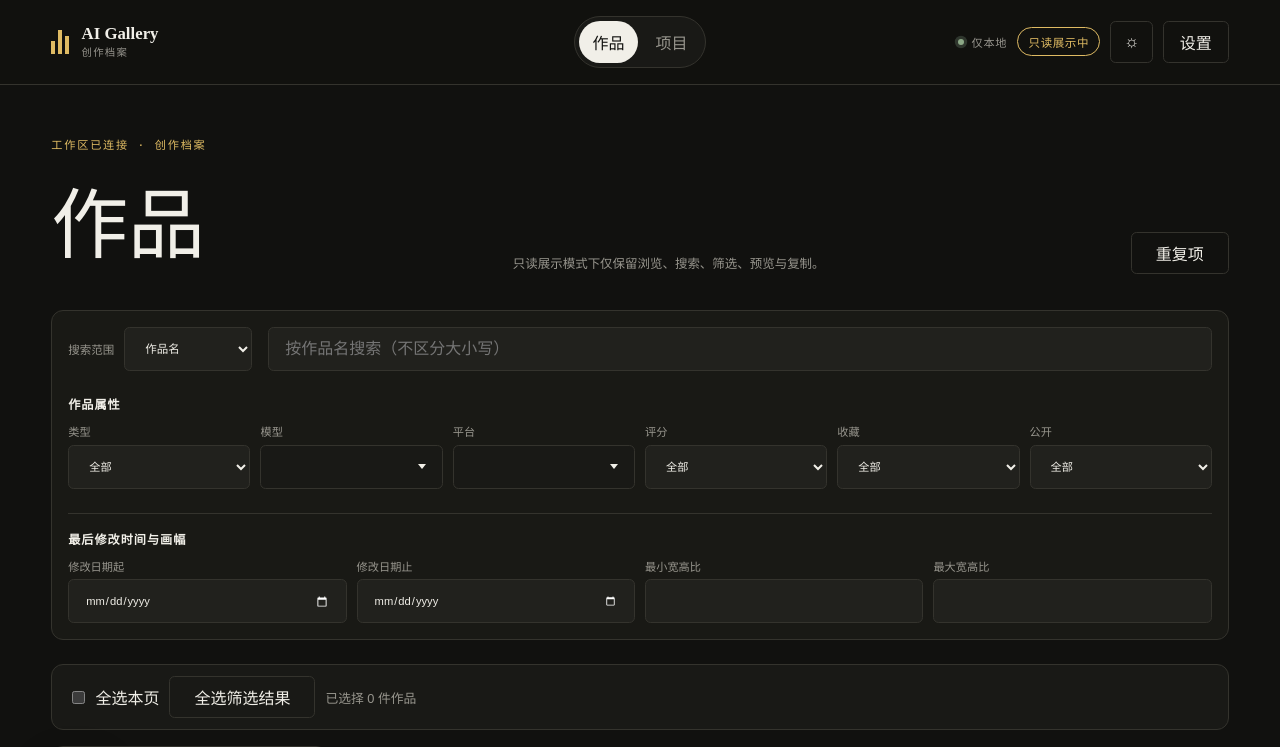
Scenario: M2 作品库页面 › 画布项目只读时隐藏角色、提示词和移出写操作
This screenshot has width=1280, height=747.
Click the button "项目".
click(672, 42)  # box [642,21,701,63]
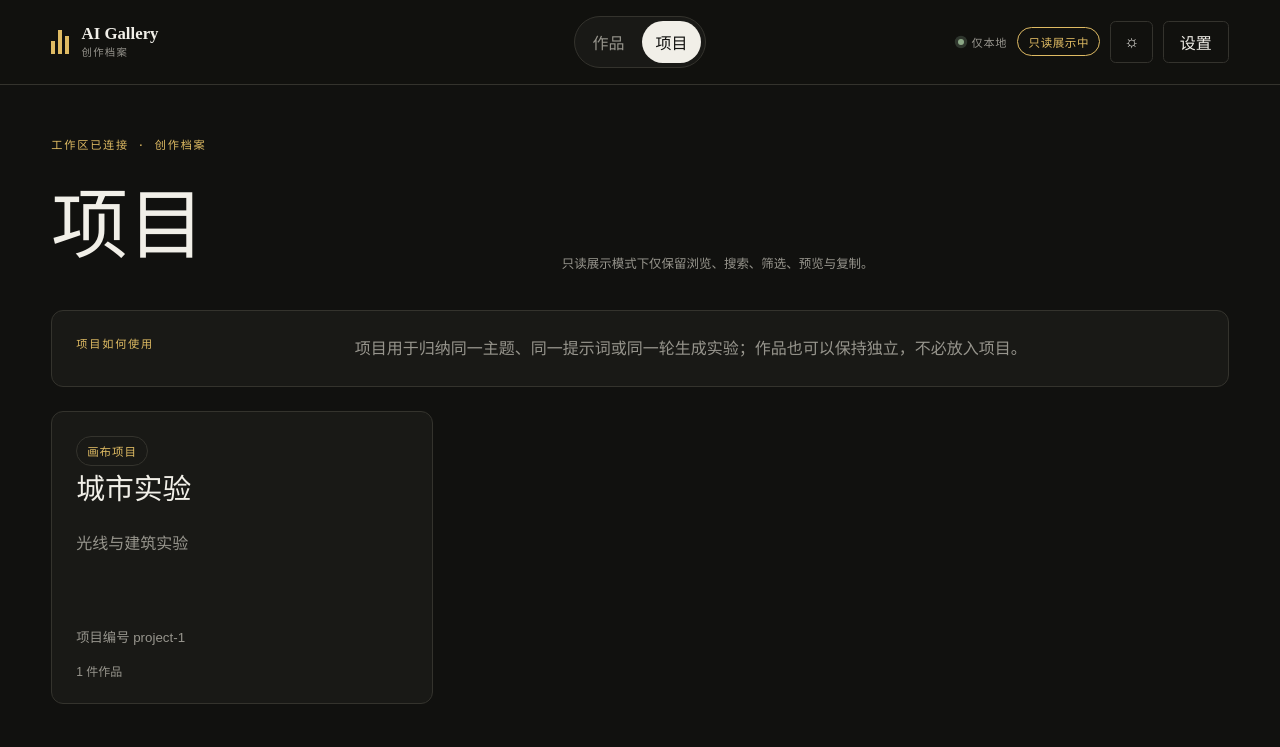
Click the button "画布项目 城市实验 光线与建筑实验".
click(112, 451)  # box [76,436,408,627]
(page scrolled)
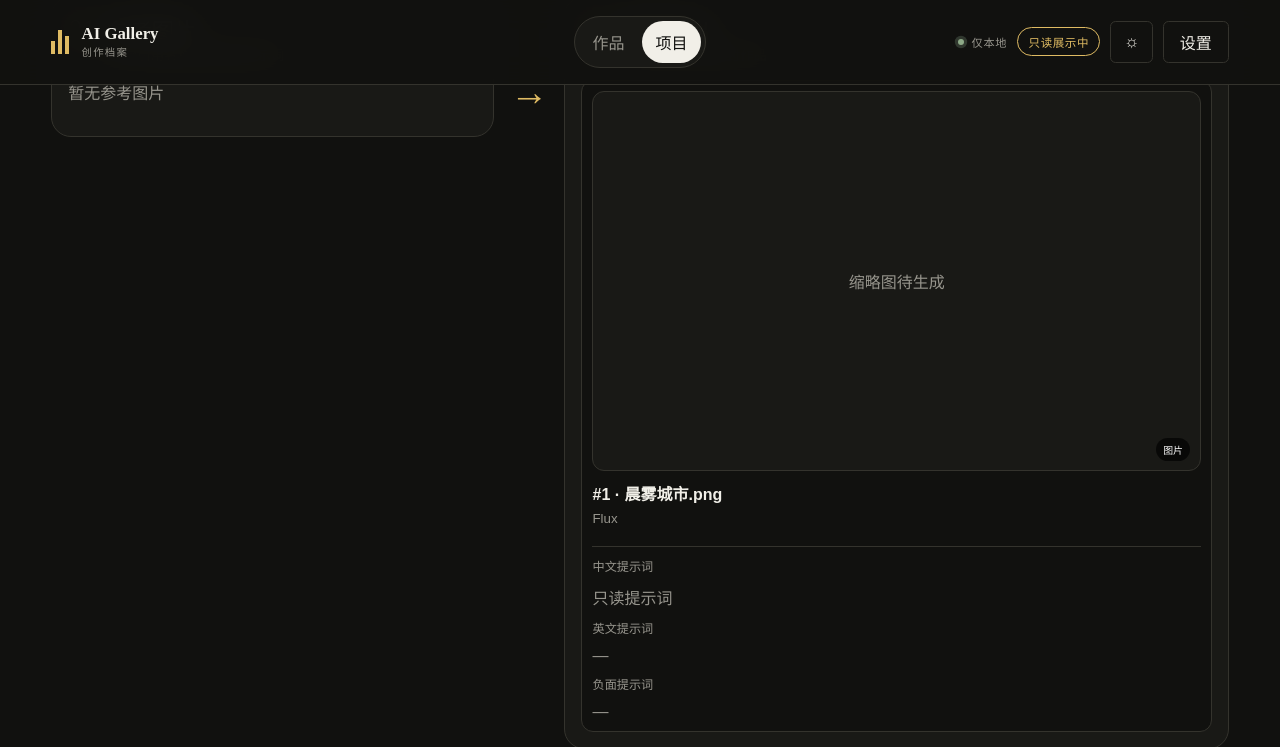
Check: the text "只读提示词" is shown, box [592,590,672,607]
